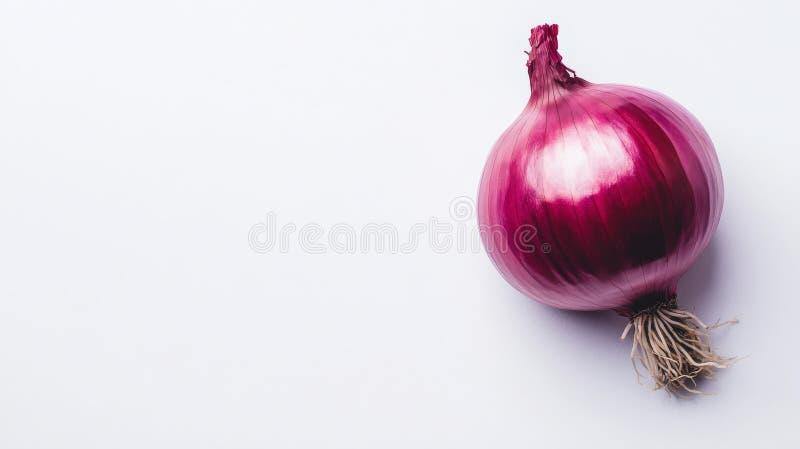Onion: (477, 25, 728, 395)
